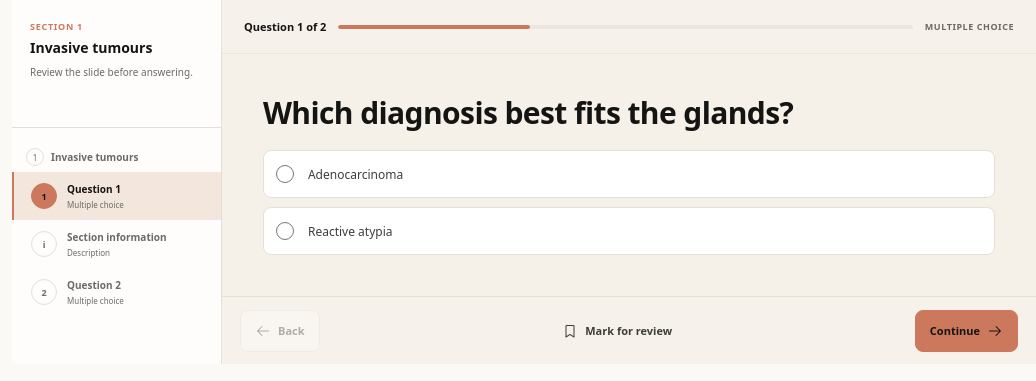
Test: keeps learner preview focused and numbering contiguous around information blocks
The image size is (1036, 381).
Expected: the text "Question 1" is shown, [67, 182, 121, 196]
Expected: the text "Section information" is shown, [67, 230, 183, 244]
Click the button "i Section information Description" at (116, 244), box [12, 220, 221, 268]
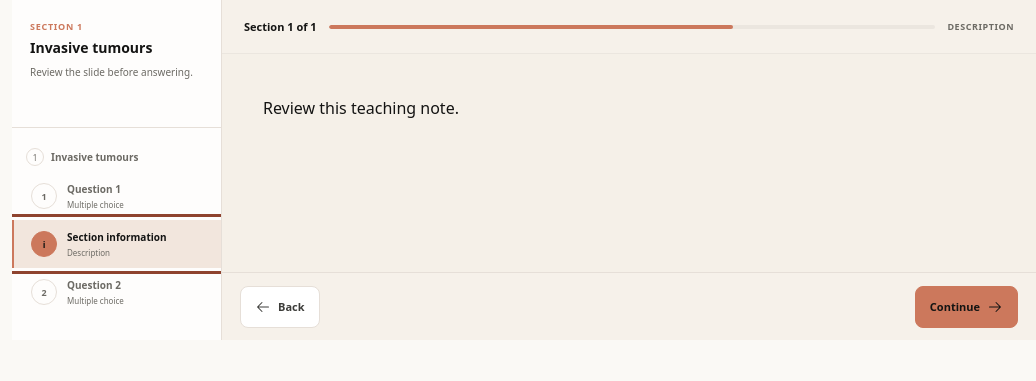
Expected: the text "Review this teaching note." is shown, [263, 97, 459, 119]
Click the button "Continue" at (966, 306), box [915, 286, 1018, 328]
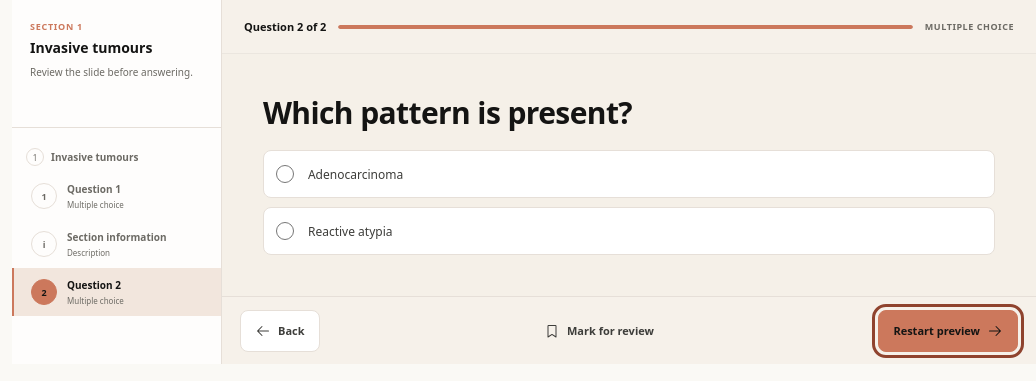
Expected: the heading "Which pattern is present?" is shown, [263, 92, 632, 133]
